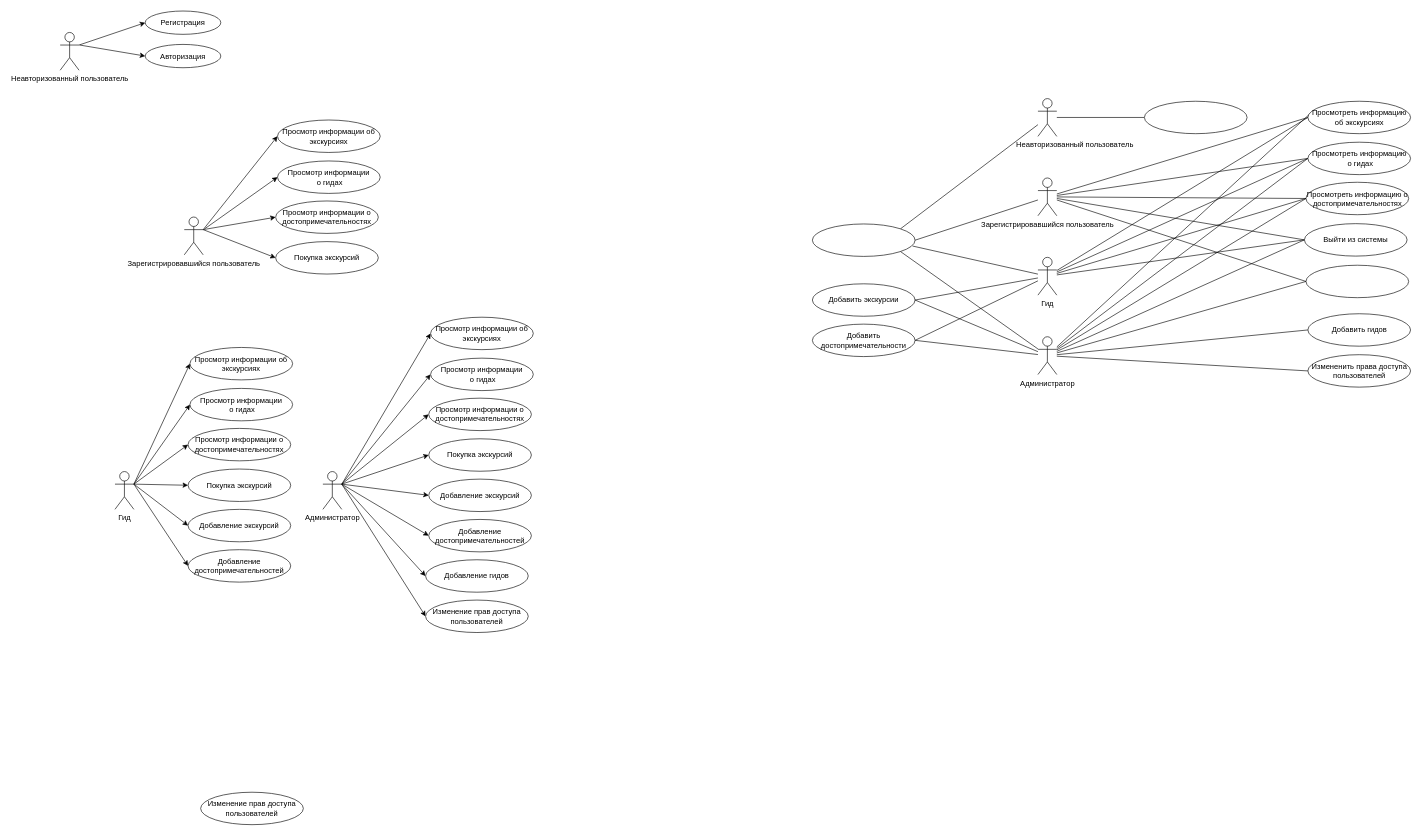
Some shapes in this 1421 by 836 pixel diagram are drawn without their labels. Here are the shapes that lost their labels. From the top down, the centre of each, then its label:
[1195,117]: Зарегистрироваться
[863,239]: Авторизоваться
[1357,281]: Купить экскурсии
